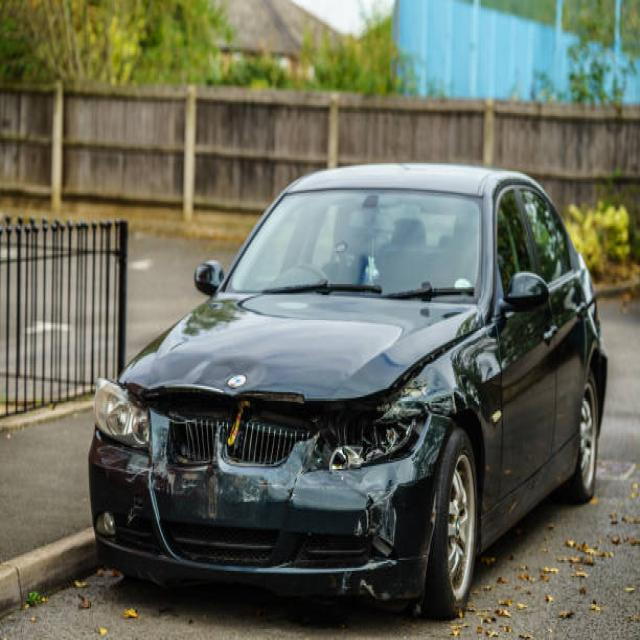Crack: (93, 381, 150, 464)
Dent: (163, 414, 303, 527), (146, 348, 368, 411), (415, 331, 505, 420)
Scratch: (343, 496, 408, 609), (418, 464, 440, 599), (125, 455, 152, 536)
Shatter: (304, 387, 428, 488)
